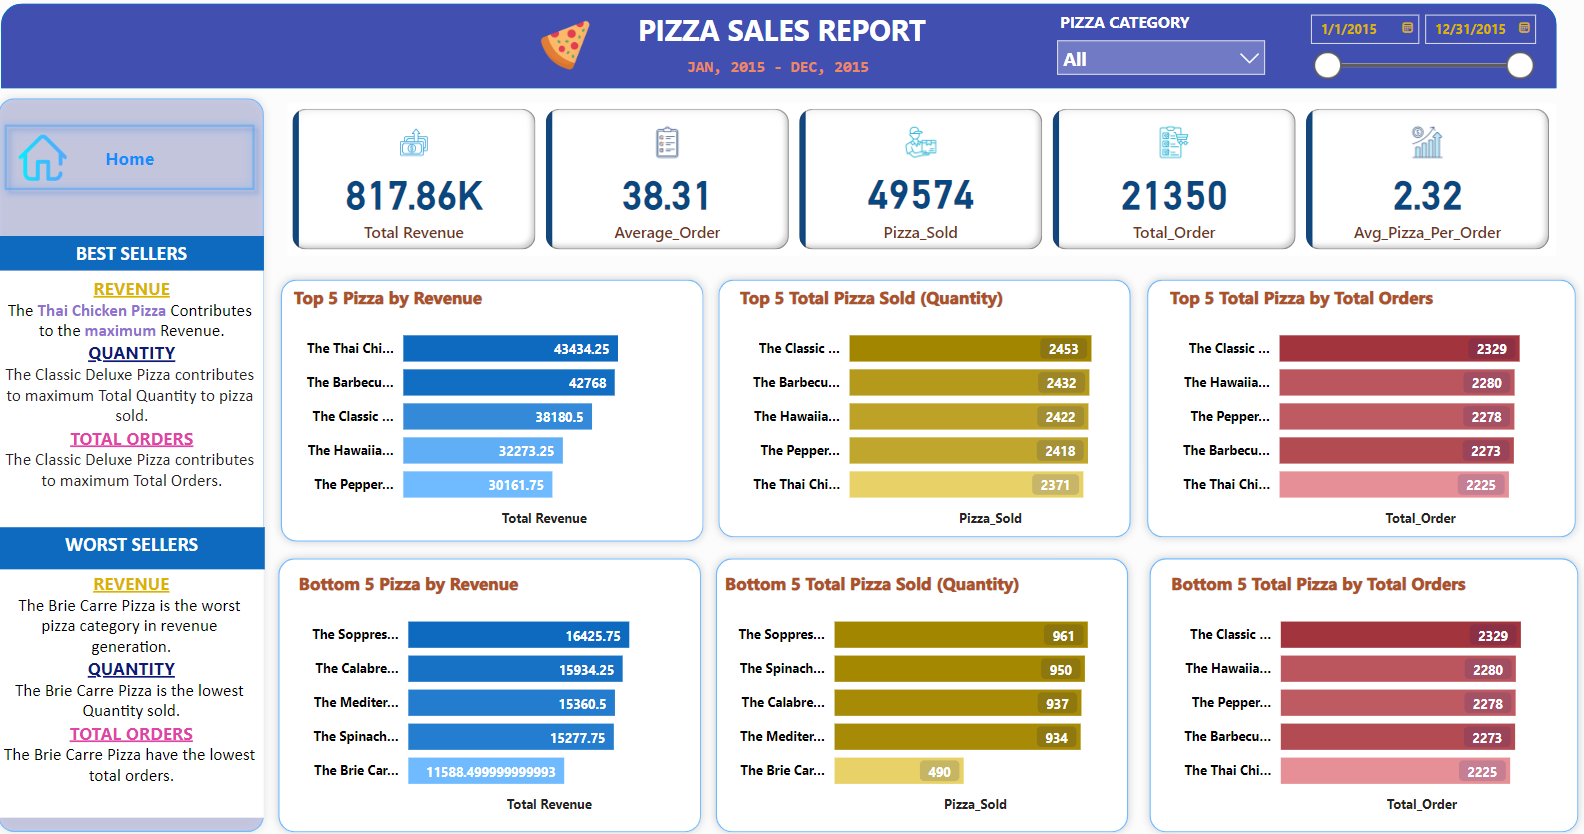

Layout of this report page (visuals, bound fields, positions):
{"tool":"powerbi","page":{"name":"Best/Worst Sales","canvas":[1500,800],"ordinal":1},"visuals":[{"type":"shape","box":[12.9,101.2,263.5,698.9],"z":0},{"type":"cardVisual","fields":{"Data":["pizza_db pizza_sales.Total Revenue","pizza_db pizza_sales.Average_Order","pizza_db pizza_sales.Pizza_Sold","pizza_db pizza_sales.Total_Order","pizza_db pizza_sales.Avg_Pizza_Per_Order"]},"box":[290,114.4,1181.9,141.6],"z":1000},{"type":"shape","box":[23.1,20.4,1448.8,79],"z":2000},{"type":"textbox","box":[597.8,21.8,306.4,44.9],"z":3000},{"type":"textbox","box":[642.7,65.4,208.3,32.7],"z":4000},{"type":"image","box":[520.2,31.3,57.2,57.2],"z":5000},{"type":"shape","box":[683.6,269.6,400.3,256],"z":6000},{"type":"textbox","box":[20.9,237.8,247.4,32.1],"z":7000},{"type":"textbox","box":[22.5,269.9,245.8,239.4],"z":8000},{"type":"textbox","box":[20.9,544.7,247.4,234.6],"z":9000},{"type":"textbox","box":[20.4,509.3,247.8,39.5],"z":10000},{"type":"slicer","fields":{"Values":["pizza_db pizza_sales.pizza_category"]},"box":[996.7,23.1,213.8,76.3],"z":11000},{"type":"slicer","fields":{"Values":["pizza_db pizza_sales.order_date"]},"box":[1230.9,20.4,228.8,79],"z":12000},{"type":"shape","box":[276.4,269.6,409.9,260.1],"z":13000},{"type":"shape","box":[1082.5,269.6,415.3,256],"z":14000},{"type":"shape","box":[273.7,529.7,409.9,271],"z":15000},{"type":"shape","box":[680.8,529.7,400.3,271],"z":16000},{"type":"shape","box":[1085.2,529.7,415.3,271],"z":17000},{"type":"clusteredBarChart","title":"Top 5 Pizza by Revenue","fields":{"Category":["pizza_db pizza_sales.pizza_name"],"Y":["pizza_db pizza_sales.Total Revenue"]},"box":[290.8,282.8,374.4,229.8],"z":18000},{"type":"clusteredBarChart","title":"Bottom 5 Pizza by Revenue","fields":{"Category":["pizza_db pizza_sales.pizza_name"],"Y":["pizza_db pizza_sales.Total Revenue"]},"box":[295.6,549.5,374.4,229.8],"z":19000},{"type":"clusteredBarChart","title":"Top 5 Total Pizza Sold (Quantity)","fields":{"Category":["pizza_db pizza_sales.pizza_name"],"Y":["pizza_db pizza_sales.Pizza_Sold"]},"box":[706.9,282.8,374.4,229.8],"z":20000},{"type":"clusteredBarChart","title":"Bottom 5 Total Pizza Sold (Quantity)","fields":{"Category":["pizza_db pizza_sales.pizza_name"],"Y":["pizza_db pizza_sales.Pizza_Sold"]},"box":[692.5,549.5,374.4,229.8],"z":21000},{"type":"pageNavigator","box":[19.1,125.3,249.2,77.6],"z":21500},{"type":"clusteredBarChart","title":"Top 5 Total Pizza by Total Orders","fields":{"Category":["pizza_db pizza_sales.pizza_name"],"Y":["pizza_db pizza_sales.Total_Order"]},"box":[1107,282.8,374.4,229.8],"z":22000},{"type":"clusteredBarChart","title":"Bottom 5 Total Pizza by Total Orders","fields":{"Category":["pizza_db pizza_sales.pizza_name"],"Y":["pizza_db pizza_sales.Total_Order"]},"box":[1108.6,549.5,374.4,229.8],"z":24000},{"type":"image","box":[35.4,134.8,54.5,58.6],"z":25000}]}

Visuals, with their boxes in screenshot pixels (x1, y1, x2, y2), scaled from the page's 1500x800 canvas onto the 1584x834 screenshot:
shape: l=14, t=106, r=292, b=833
cardVisual - pizza_db pizza_sales.Total Revenue x pizza_db pizza_sales.Average_Order: l=306, t=119, r=1554, b=267
shape: l=24, t=21, r=1554, b=104
textbox: l=631, t=23, r=955, b=70
textbox: l=679, t=68, r=899, b=102
image: l=549, t=33, r=610, b=92
shape: l=722, t=281, r=1145, b=548
textbox: l=22, t=248, r=283, b=281
textbox: l=24, t=281, r=283, b=531
textbox: l=22, t=568, r=283, b=812
textbox: l=22, t=531, r=283, b=572
slicer - pizza_db pizza_sales.pizza_category: l=1053, t=24, r=1278, b=104
slicer - pizza_db pizza_sales.order_date: l=1300, t=21, r=1541, b=104
shape: l=292, t=281, r=725, b=552
shape: l=1143, t=281, r=1582, b=548
shape: l=289, t=552, r=722, b=833
shape: l=719, t=552, r=1142, b=833
shape: l=1146, t=552, r=1583, b=833
"Top 5 Pizza by Revenue" clusteredBarChart: l=307, t=295, r=702, b=534
"Bottom 5 Pizza by Revenue" clusteredBarChart: l=312, t=573, r=708, b=812
"Top 5 Total Pizza Sold (Quantity)" clusteredBarChart: l=746, t=295, r=1142, b=534
"Bottom 5 Total Pizza Sold (Quantity)" clusteredBarChart: l=731, t=573, r=1127, b=812
pageNavigator: l=20, t=131, r=283, b=212
"Top 5 Total Pizza by Total Orders" clusteredBarChart: l=1169, t=295, r=1564, b=534
"Bottom 5 Total Pizza by Total Orders" clusteredBarChart: l=1171, t=573, r=1566, b=812
image: l=37, t=141, r=95, b=202
